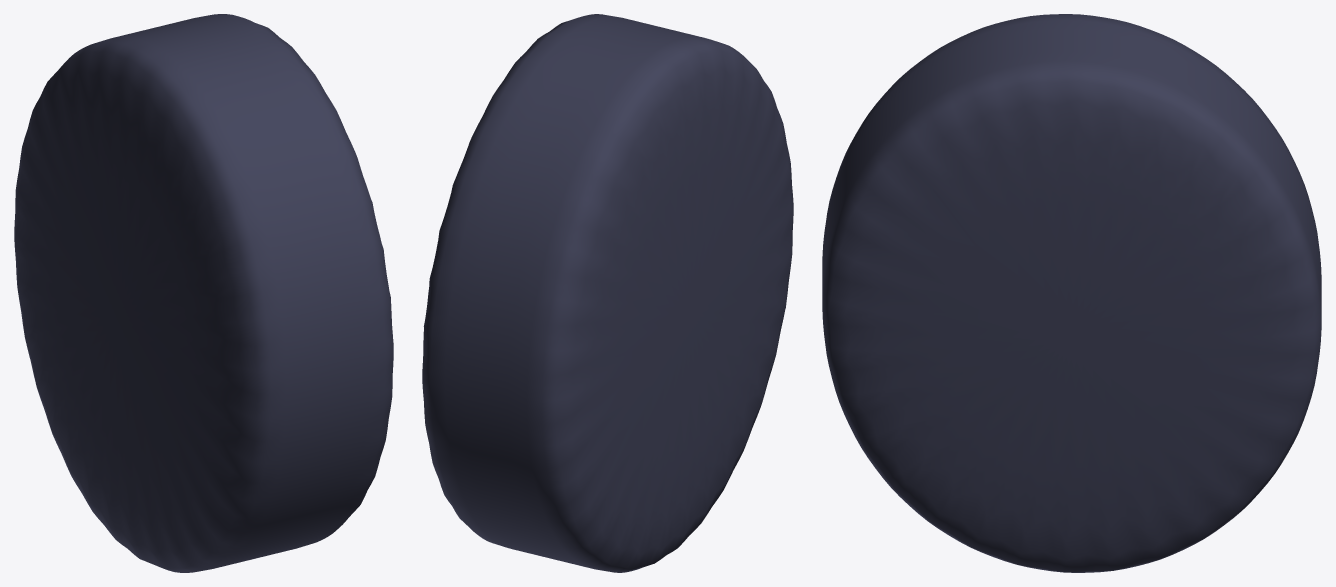
File: Tire.fbx
3 renders of one model, left to right at view 1: azimuth 30°, elevation 25°; view 2: azimuth 150°, elevation 25°; view 3: azimuth 270°, elevation 25°, orthographic. The views are drawn at different scales.
Parts seen in each view (by area): view 1: wheels.001; view 2: wheels.001; view 3: wheels.001.
Part boxes in pixels (x1,y1,x2,y2): wheels.001: (14, 14, 393, 572); wheels.001: (422, 14, 793, 572); wheels.001: (822, 14, 1321, 572).
Size of the model in its own units: 0.0596 by 0.1682 by 0.1506.
